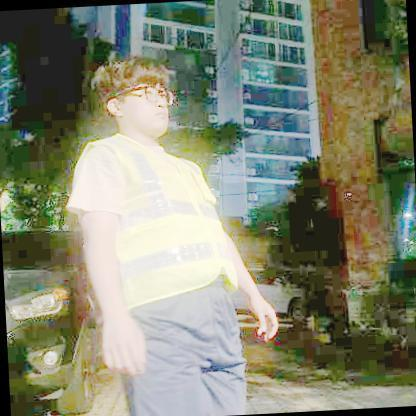no-helmet: (92, 52, 173, 110)
vest: (67, 127, 241, 314)
